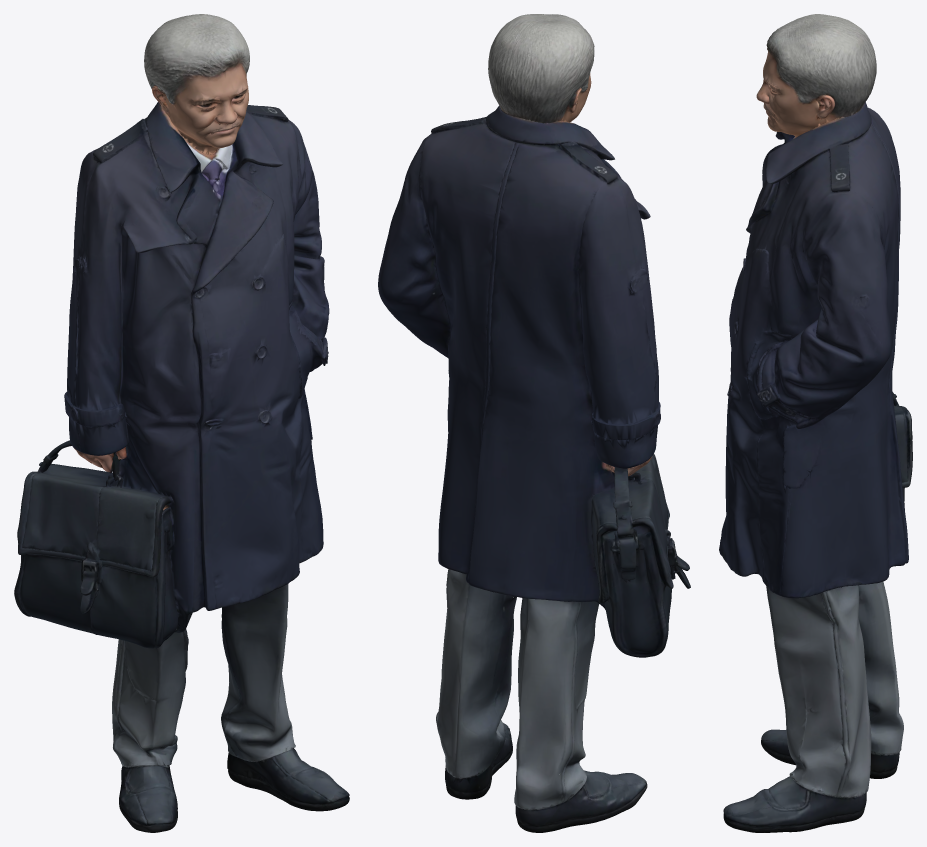
File: grandpa_statue.glb
3 renders of one model, left to right at view 1: azimuth 30°, elevation 25°; view 2: azimuth 150°, elevation 25°; view 3: azimuth 270°, elevation 25°, orthographic. The views are drawn at different scales.
Parts seen in each view (by area): view 1: tripo_node_84313918-81af-40a1-96d8-708eff9d4a76; view 2: tripo_node_84313918-81af-40a1-96d8-708eff9d4a76; view 3: tripo_node_84313918-81af-40a1-96d8-708eff9d4a76.
Part boxes in pixels (<box>): tripo_node_84313918-81af-40a1-96d8-708eff9d4a76: <box>14,14,349,832</box>; tripo_node_84313918-81af-40a1-96d8-708eff9d4a76: <box>378,14,690,832</box>; tripo_node_84313918-81af-40a1-96d8-708eff9d4a76: <box>719,14,912,832</box>.
Size of the model in its own units: 0.3862 by 0.9789 by 0.2257.
1 material, 1 textured.
